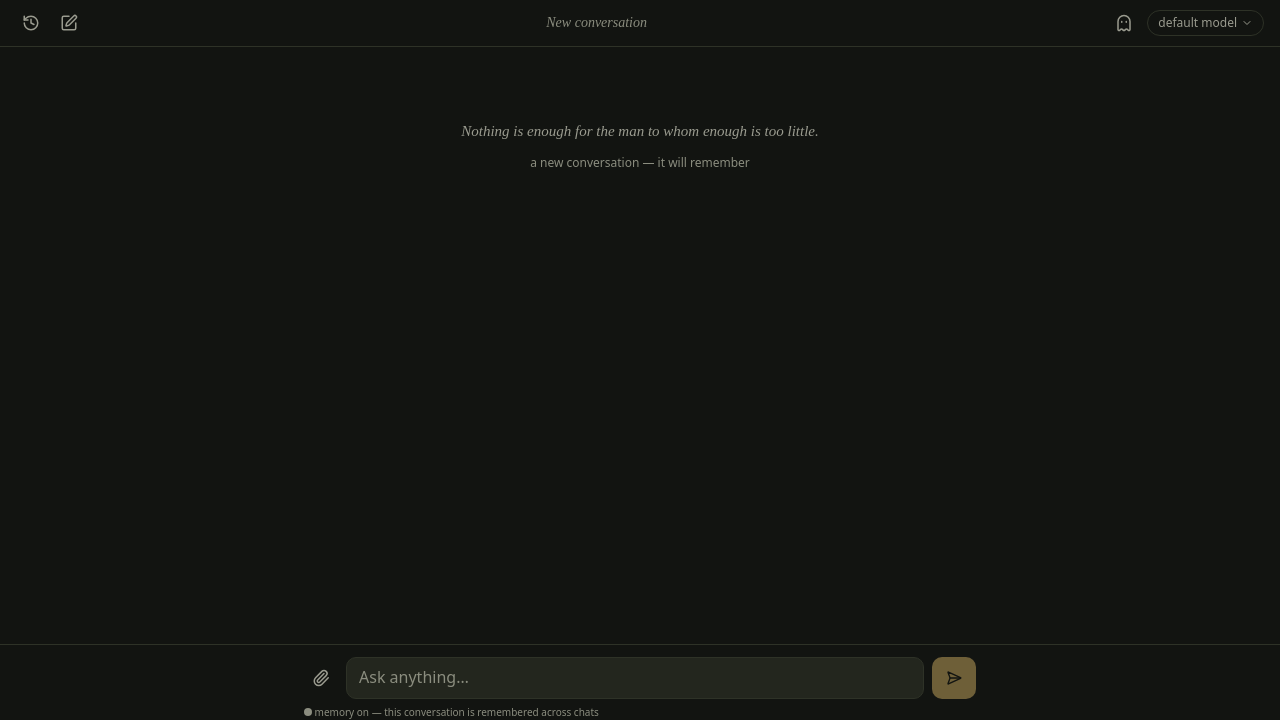
Conversations sheet (#480) › filters by title and flattens the groups while searching
Click the button named "Conversations": (31, 23) [16,8,46,38]
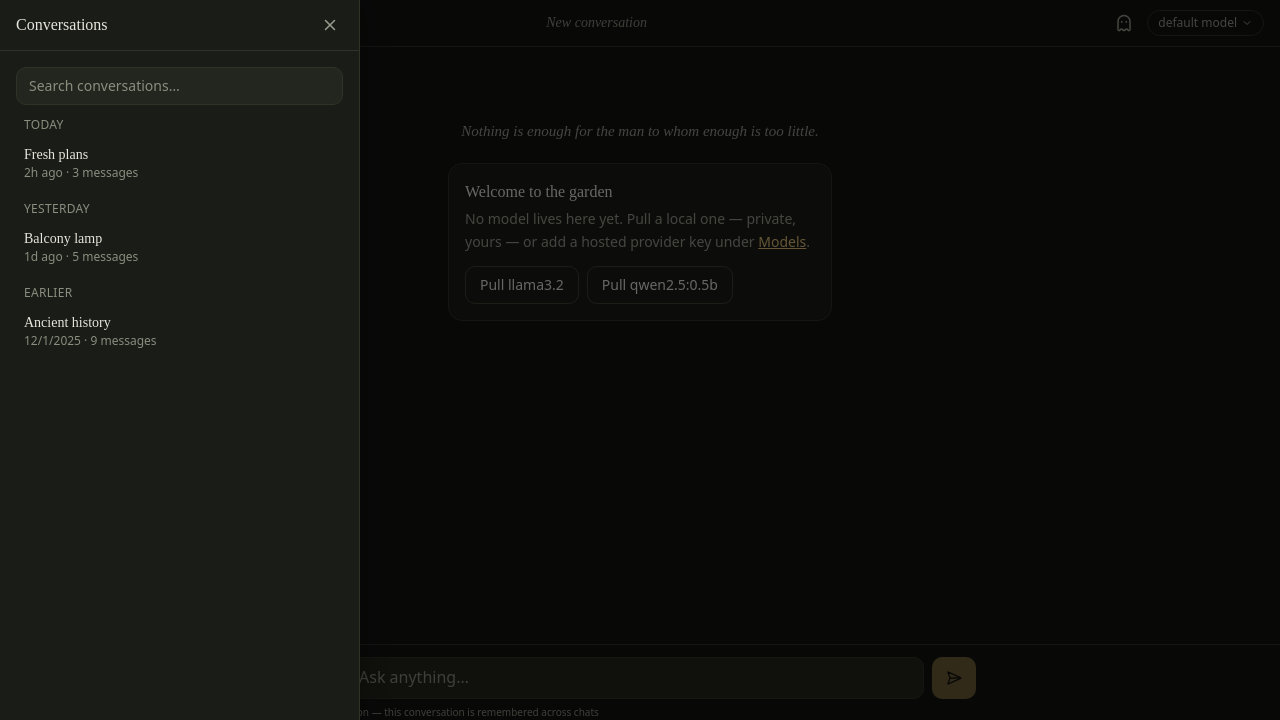
Expected: the text "Fresh plans" is shown, [24,145,88,165]
In the field labelled "Search conversations": (180, 86) [16,67,343,105], type "lamp"
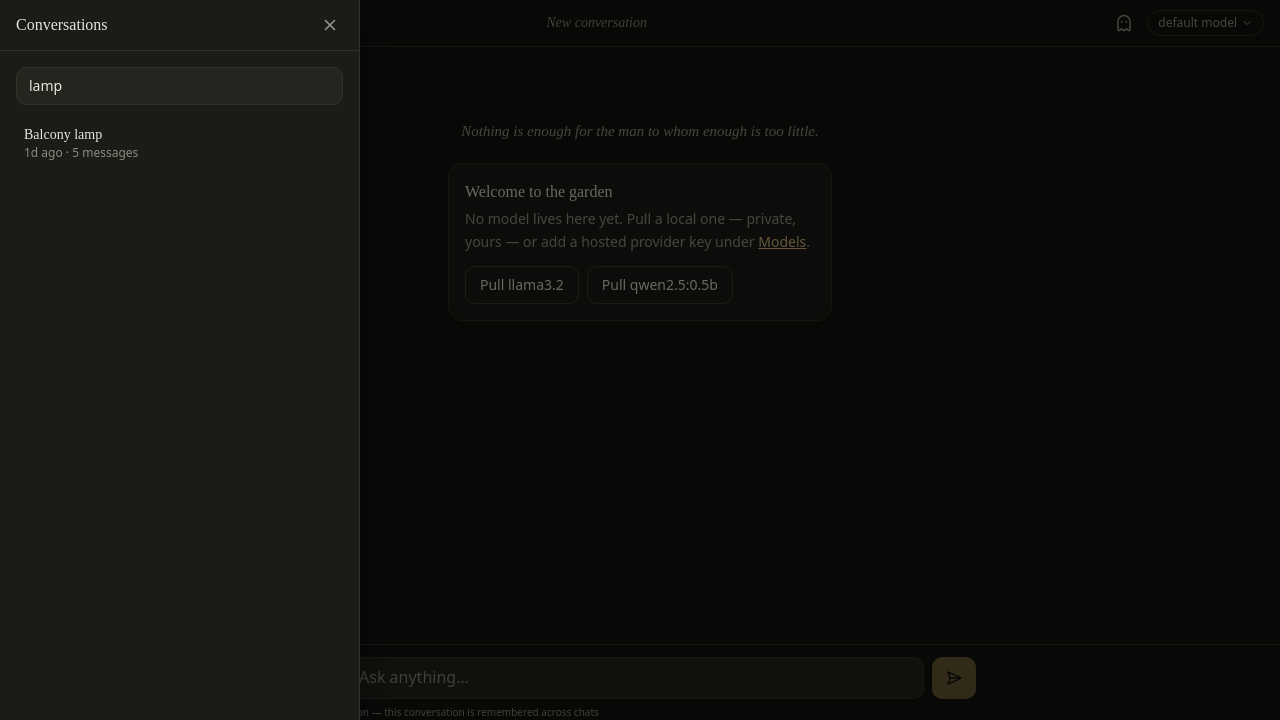
Expected: the text "Balcony lamp" is shown, [24,125,102,145]
Expected: the button "Fresh plans" is gone
Expected: the text "Yesterday" is gone
